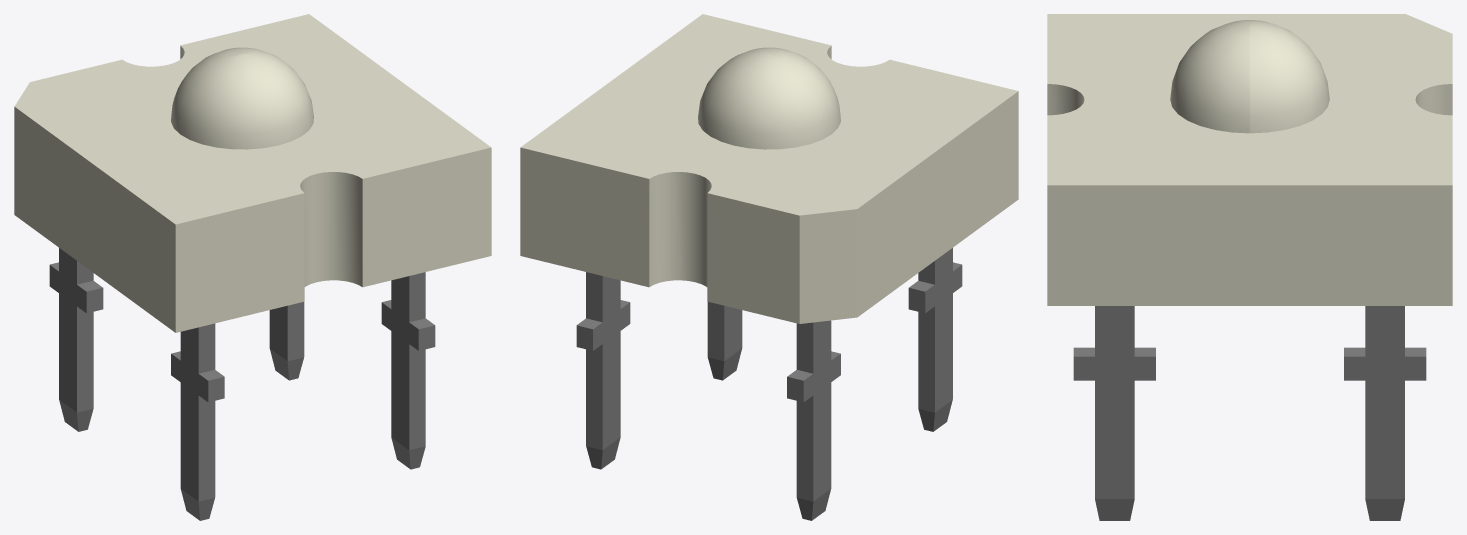
File: kc-led_rectangular_w7.62mm_h4.55mm_p5.08mm_r3.glb
3 views of the same model, side by side, from view 1: azimuth 30°, elevation 25°; view 2: azimuth 150°, elevation 25°; view 3: azimuth 270°, elevation 25° (orthographic). The views are drawn at different scales.
Visible parts, largest first — view 1: 0.75_0.75_0.6666666666666666_0, 0.25_0.25_0.25_0; view 2: 0.75_0.75_0.6666666666666666_0, 0.25_0.25_0.25_0; view 3: 0.75_0.75_0.6666666666666666_0, 0.25_0.25_0.25_0.
Boxes of the visible parts, x1=… form: 0.75_0.75_0.6666666666666666_0: x1=14, y1=14, x2=491, y2=332; 0.25_0.25_0.25_0: x1=49, y1=248, x2=435, y2=520; 0.75_0.75_0.6666666666666666_0: x1=520, y1=14, x2=1018, y2=323; 0.25_0.25_0.25_0: x1=576, y1=248, x2=962, y2=520; 0.75_0.75_0.6666666666666666_0: x1=1047, y1=14, x2=1452, y2=305; 0.25_0.25_0.25_0: x1=1073, y1=306, x2=1426, y2=520.
Size of the model in its own units: 0.762 by 0.9 by 0.762.
